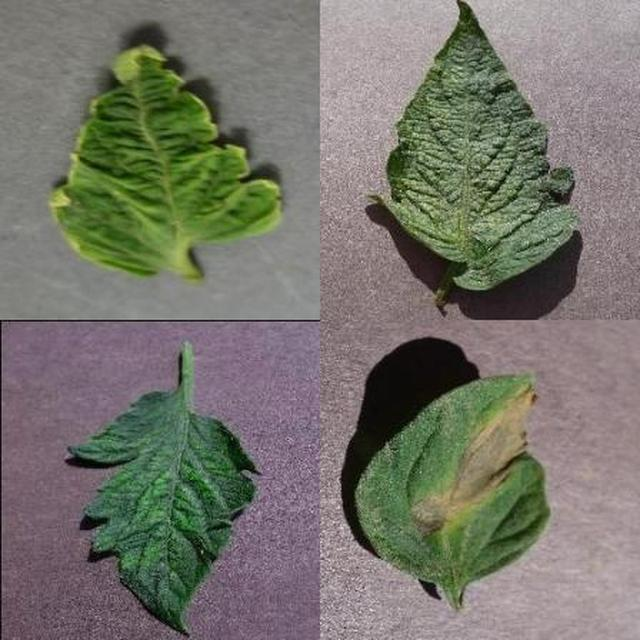Yellow Leaf Curl Virus: (232, 209, 640, 640)
